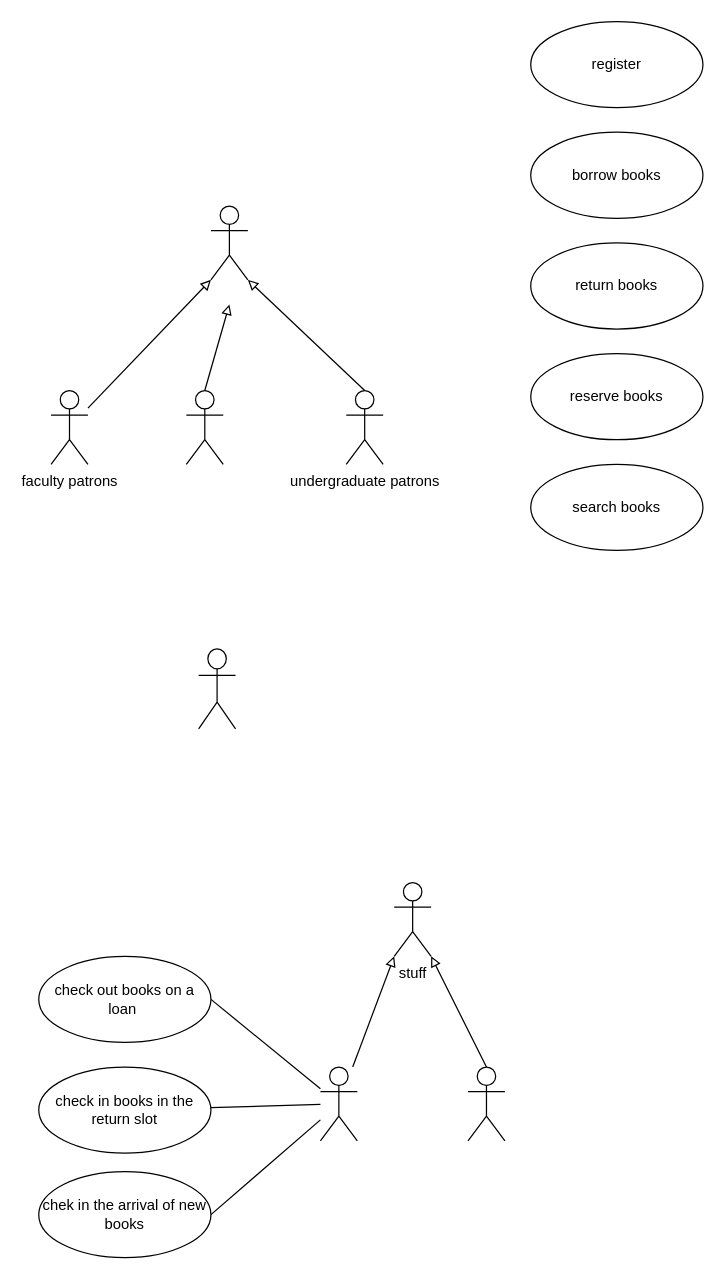
Image size: 724x1279. Some labels were removed from this diagram. The centre of each missing label's shape, as x and y in pixels:
"clerk" goes at pixel 338 1103.
"graduate patrons" goes at pixel 204 426.
"library system" goes at pixel 216 688.
"manager" goes at pixel 486 1103.
"patrons" goes at pixel 229 242.
